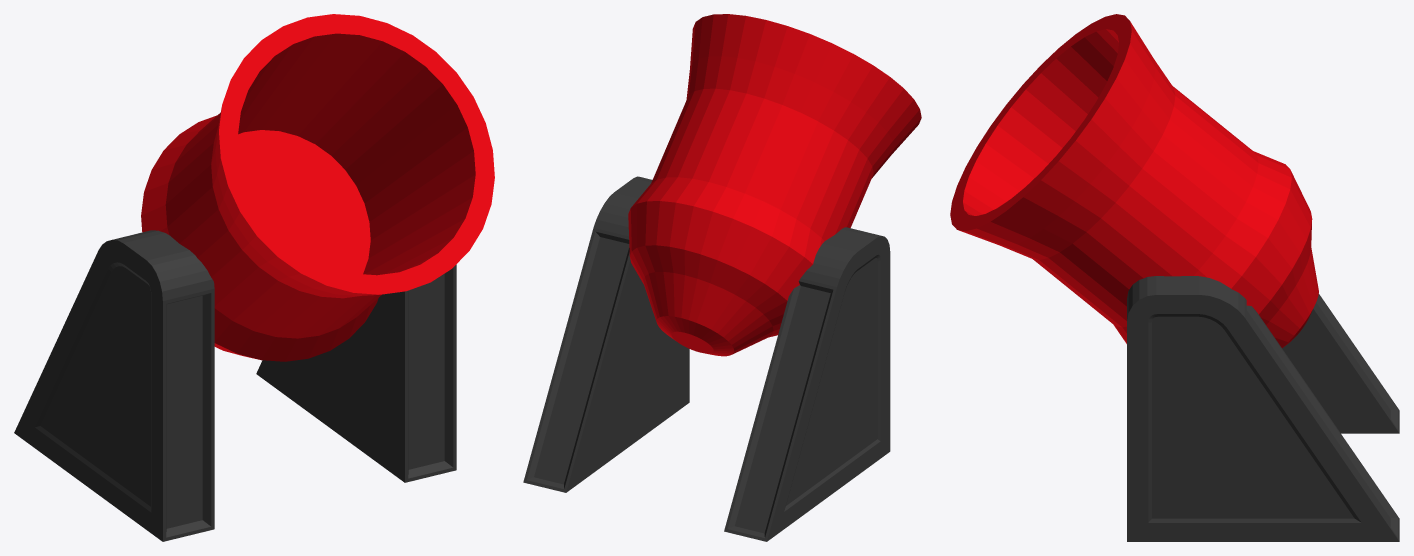
File: cannonaconfettis.fbx
3 renders of one model, left to right at view 1: azimuth 30°, elevation 25°; view 2: azimuth 150°, elevation 25°; view 3: azimuth 270°, elevation 25°, orthographic. The views are drawn at different scales.
Parts seen in each view (by area): view 1: cannon, pieds; view 2: cannon, pieds; view 3: cannon, pieds.
Part boxes in pixels (x1,y1,x2,y2): cannon: (141, 14, 494, 361); pieds: (14, 230, 456, 541); cannon: (628, 14, 921, 356); pieds: (523, 176, 890, 541); cannon: (950, 14, 1318, 347); pieds: (1127, 276, 1399, 541).
Size of the model in its own units: 228 by 361 by 330.
